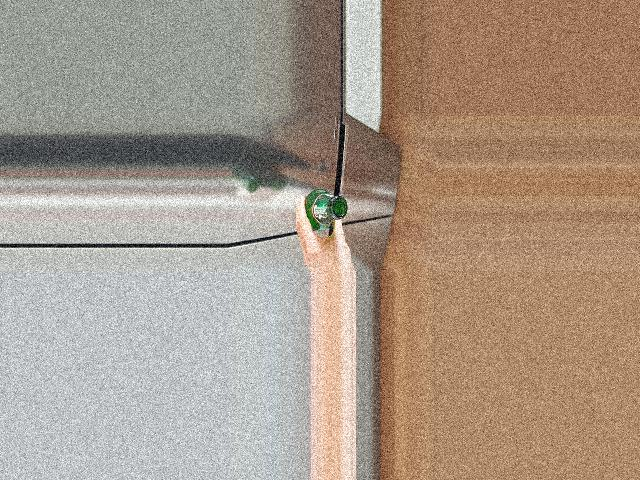beer: (305, 189, 347, 230)
